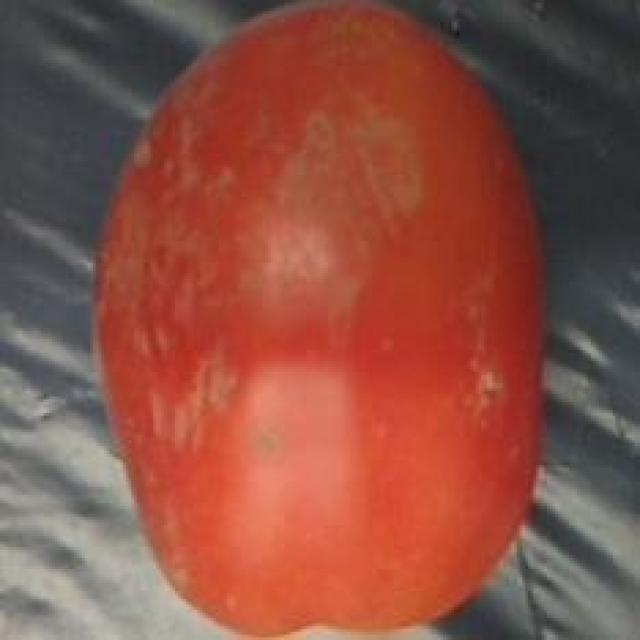overripe tomato: (87, 2, 563, 640)
